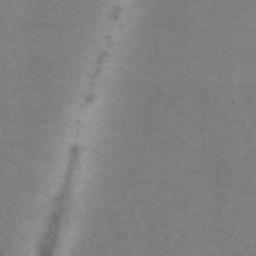Finishing roll printing: (31, 142, 79, 256), (92, 51, 110, 79), (104, 4, 127, 23), (84, 92, 97, 105)
